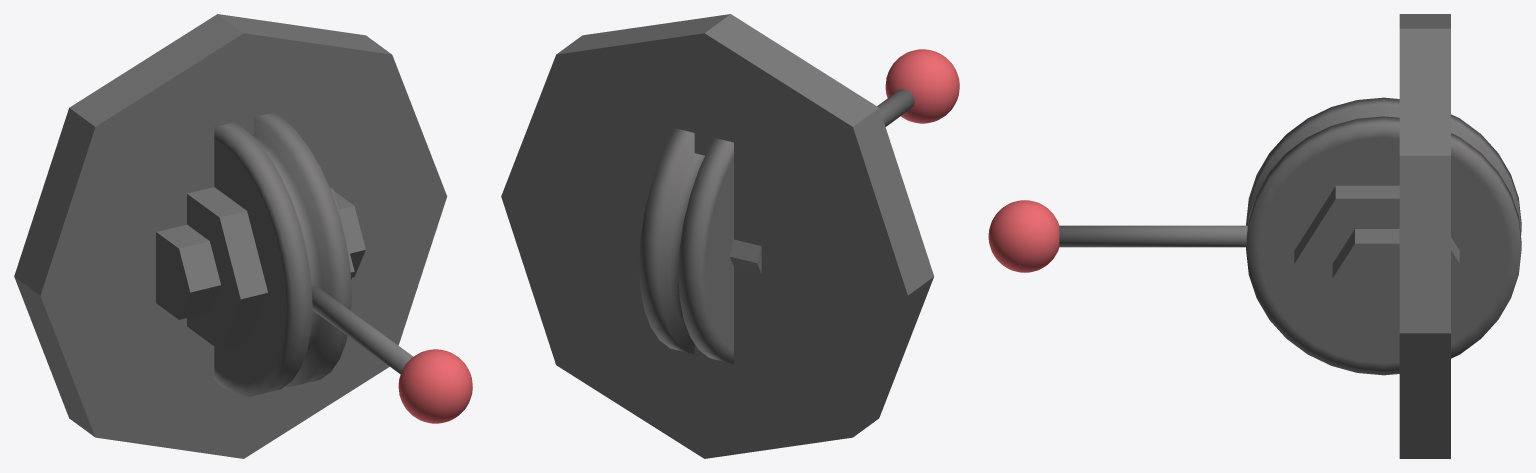
File: Lever.fbx
3 views of the same model, side by side, from view 1: azimuth 30°, elevation 25°; view 2: azimuth 150°, elevation 25°; view 3: azimuth 270°, elevation 25° (orthographic). The views are drawn at different scales.
Visible parts, largest first — view 1: Cube, Lever, Cube.001, Sphere, Cylinder; view 2: Cube, Lever, Sphere, Cube.001, Cylinder; view 3: Lever, Cube, Cube.001, Cylinder, Sphere.
Part boxes in pixels (<box>): Cube: <box>14,14,447,458</box>; Lever: <box>214,112,351,396</box>; Cube.001: <box>156,187,365,350</box>; Sphere: <box>398,349,472,423</box>; Cylinder: <box>311,286,413,374</box>; Cube: <box>501,14,934,458</box>; Lever: <box>639,128,733,363</box>; Sphere: <box>885,49,959,123</box>; Cube.001: <box>729,239,761,273</box>; Cylinder: <box>877,89,914,126</box>; Lever: <box>1246,97,1521,375</box>; Cube: <box>1399,14,1450,458</box>; Cube.001: <box>1294,185,1459,328</box>; Cylinder: <box>1059,225,1247,247</box>; Sphere: <box>988,200,1059,272</box>.
Bounding box in the file's own units: 200 × 232 × 200.
